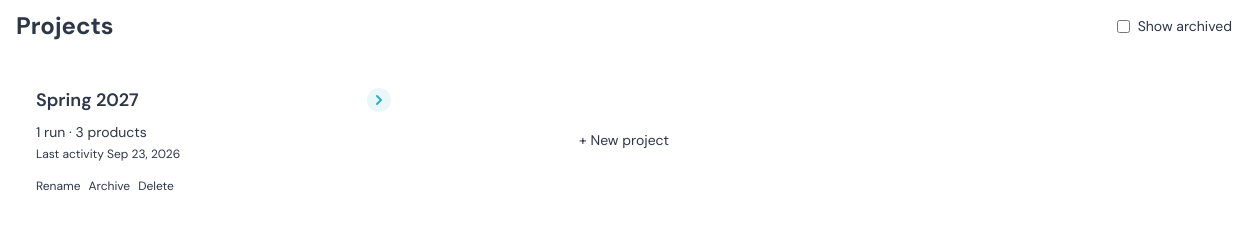
it: ProjectsGrid › shows the "Show archived" reload failure as a page-level alert (a-G4: the UI shows error.message)
The image size is (1248, 236).
Click the checkbox labelled "Show archived" at point(1123, 26), box [1117, 20, 1130, 32]
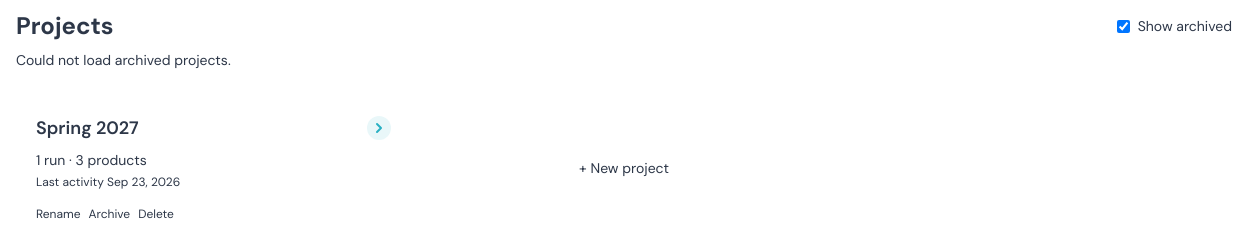
Result: the message reads "Could not load archived projects." at [16, 51, 231, 69]
